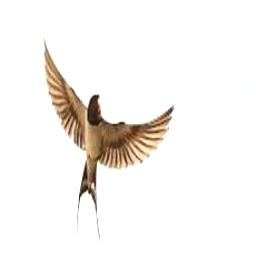Swallow: (42, 36, 174, 244)
